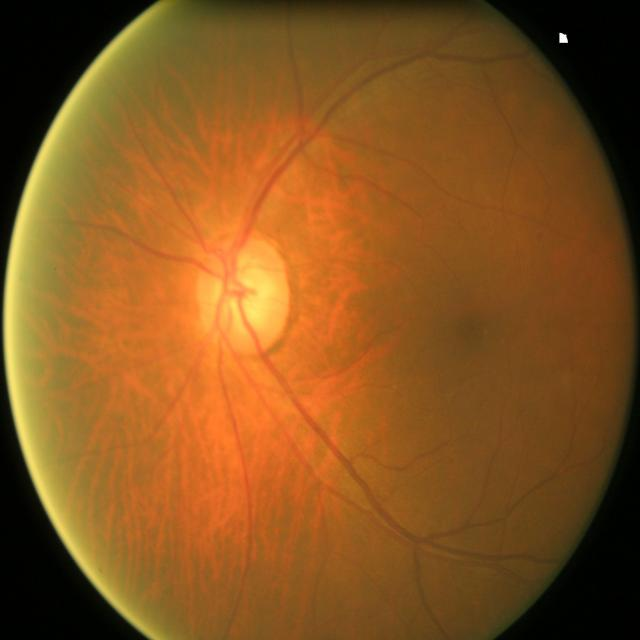OC: (214, 249, 276, 333)
OD: (190, 230, 290, 353)
